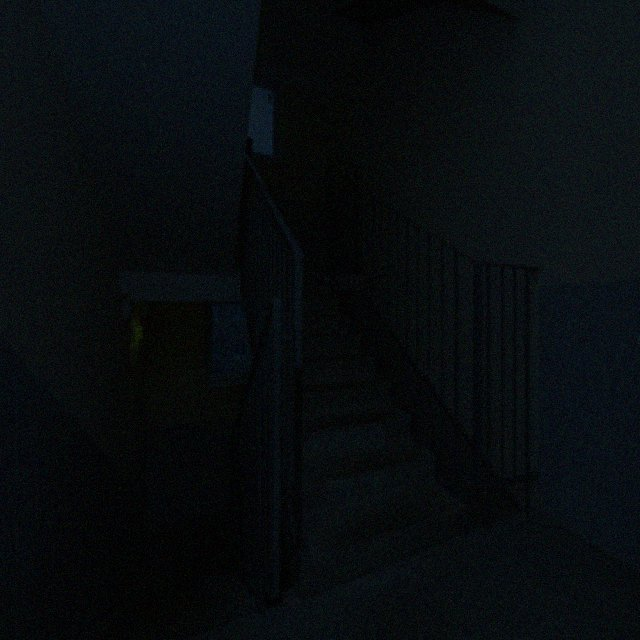stair: (107, 197, 460, 635)
